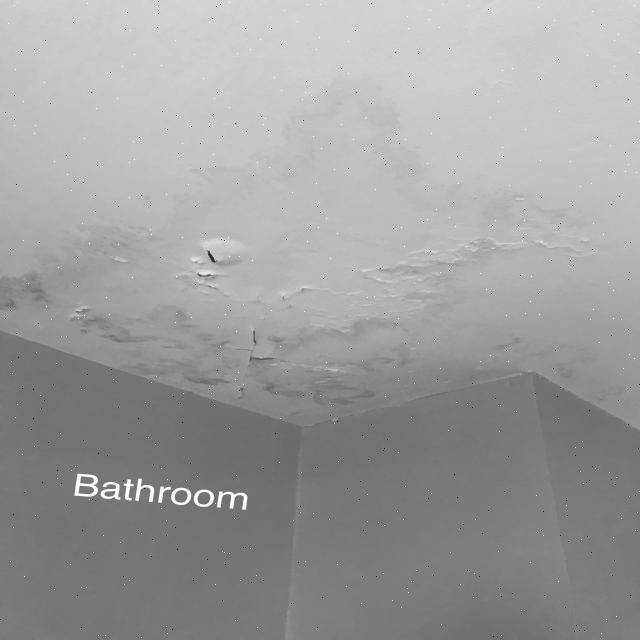stain marks: (161, 202, 612, 404), (160, 75, 479, 202), (5, 199, 164, 368)
